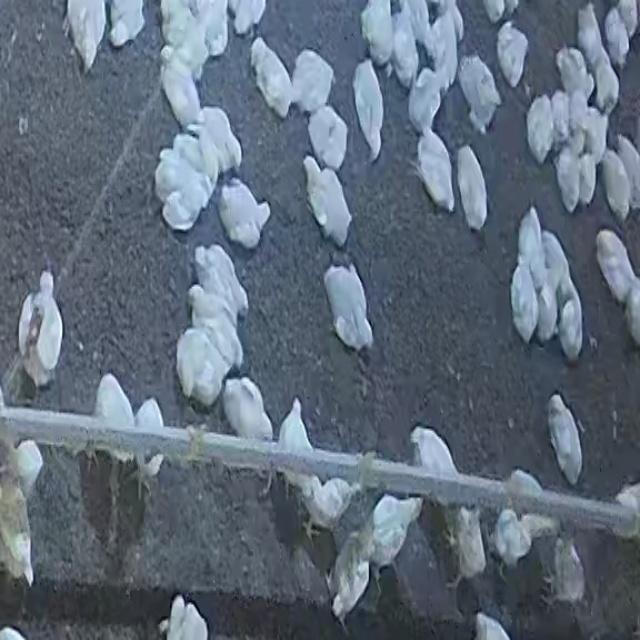chicken: (19, 265, 65, 383), (302, 160, 355, 244), (177, 324, 230, 406), (360, 492, 420, 564), (0, 482, 41, 580), (324, 264, 370, 351), (155, 157, 214, 223), (246, 40, 294, 118), (412, 130, 456, 213), (296, 470, 359, 527), (196, 106, 246, 177), (457, 55, 501, 134), (160, 57, 205, 134), (594, 228, 638, 306), (222, 378, 274, 443), (277, 403, 314, 494), (222, 178, 270, 248), (548, 394, 584, 486), (352, 60, 385, 160), (289, 48, 335, 116), (95, 381, 134, 461), (202, 243, 247, 309), (306, 105, 348, 172), (127, 401, 163, 479), (456, 145, 488, 232), (600, 144, 635, 222), (387, 4, 420, 86), (407, 67, 446, 135), (359, 0, 395, 70), (530, 269, 561, 342), (496, 22, 530, 88), (556, 44, 593, 104), (505, 268, 534, 344), (526, 94, 556, 165), (554, 279, 582, 351), (576, 6, 605, 66), (540, 227, 568, 287), (430, 18, 457, 79), (558, 136, 580, 204), (517, 211, 538, 274), (594, 51, 616, 108), (606, 11, 628, 65), (585, 108, 607, 150)
